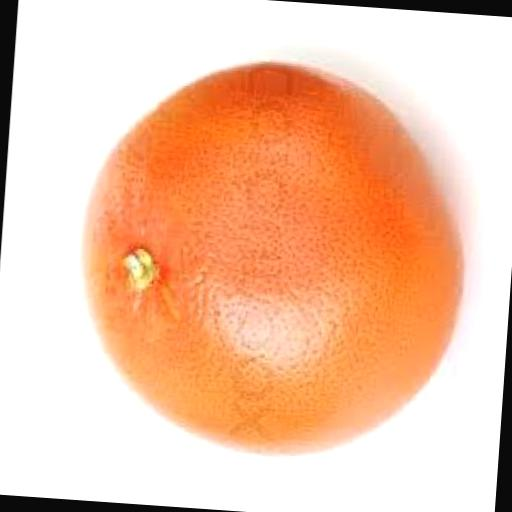biodegradable: (69, 45, 476, 460)
